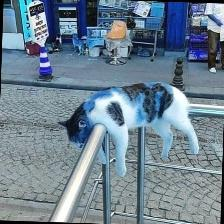kedo: (58, 83, 199, 179)
